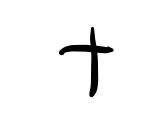plus: (59, 25, 113, 98)
